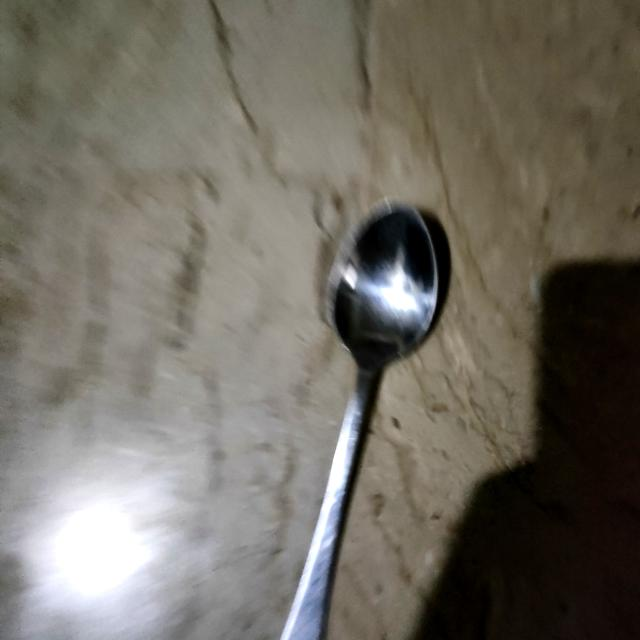Spoon: (280, 200, 444, 639)
